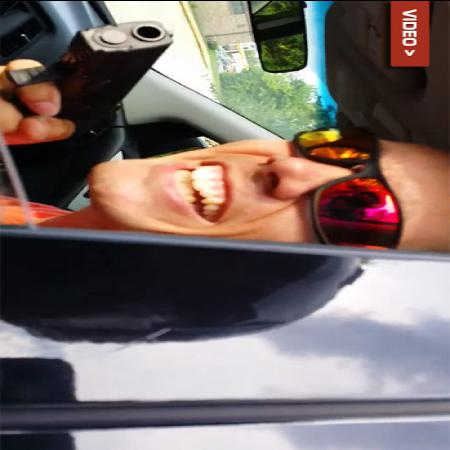Pistol: (15, 18, 176, 138)
